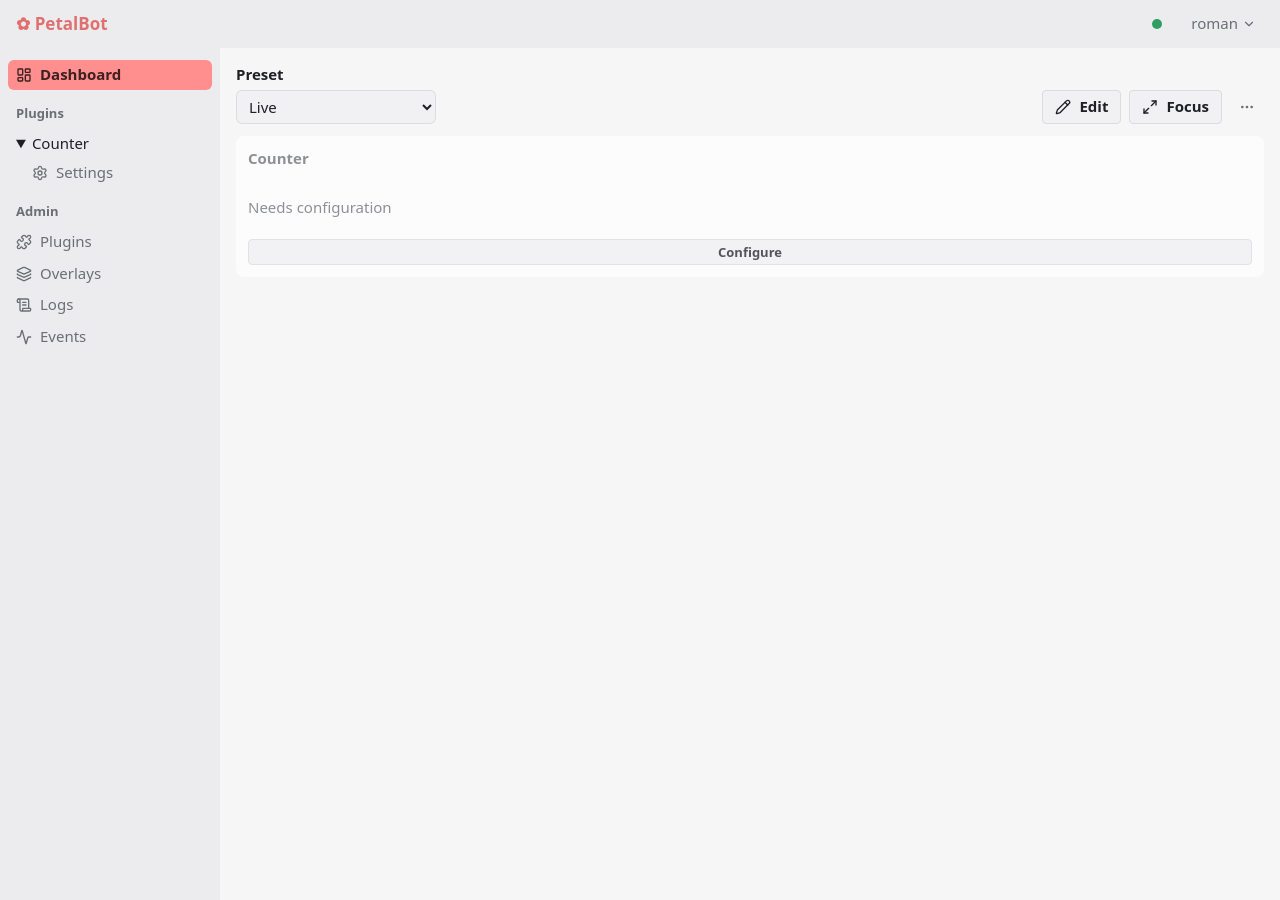
Scenario: widget instances › shows Needs configuration for a stored config that no longer parses, and fixes it
Expected: the text "Needs configuration" is shown, [248, 196, 392, 216]
Expected: the text "value of" is not shown
Click the button "Configure" at coordinates (750, 252), box [248, 239, 1252, 265]
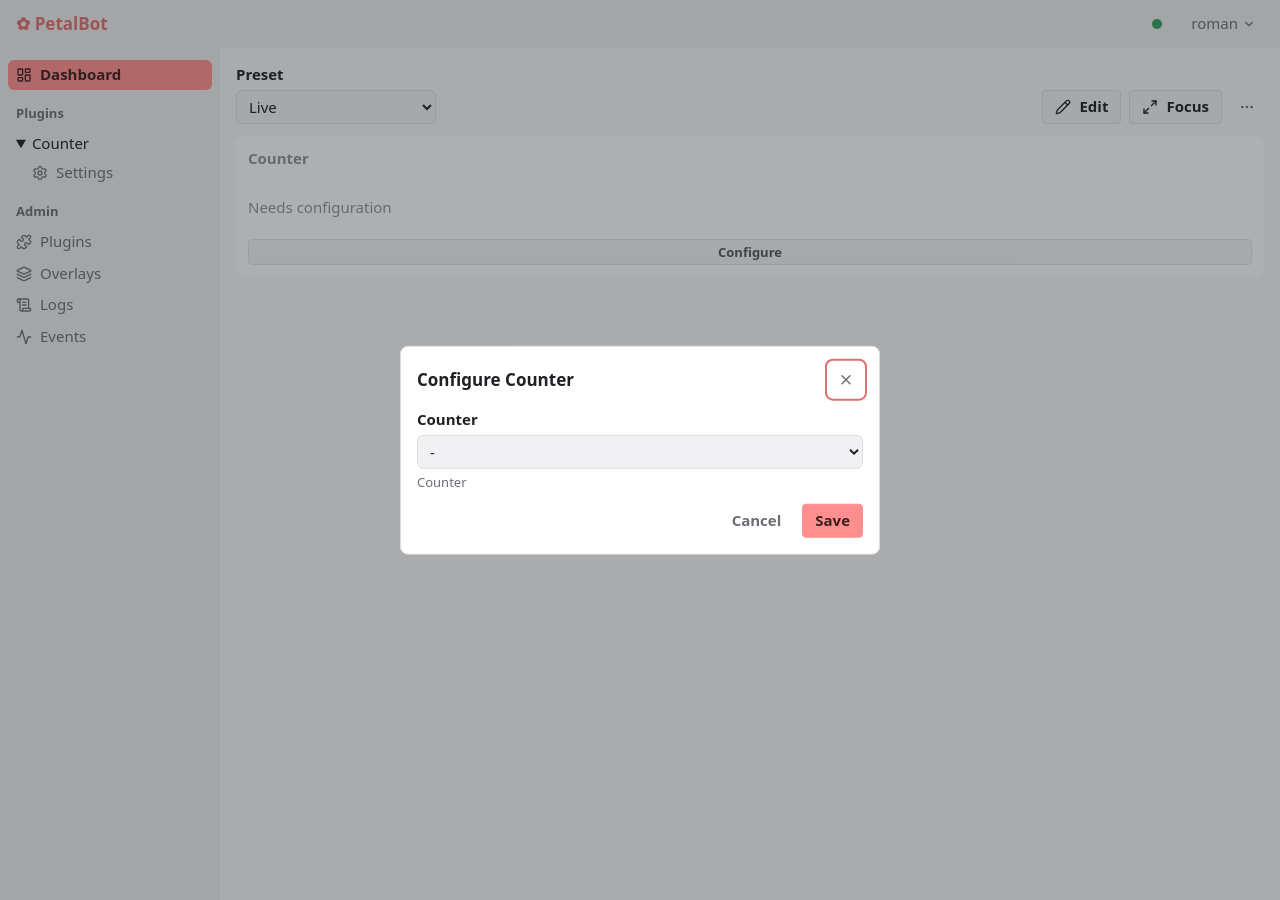
Now the dropdown labelled "Counter" is enabled
Select "Deaths" in the dropdown labelled "Counter" at coordinates (640, 452), box [417, 434, 863, 468]
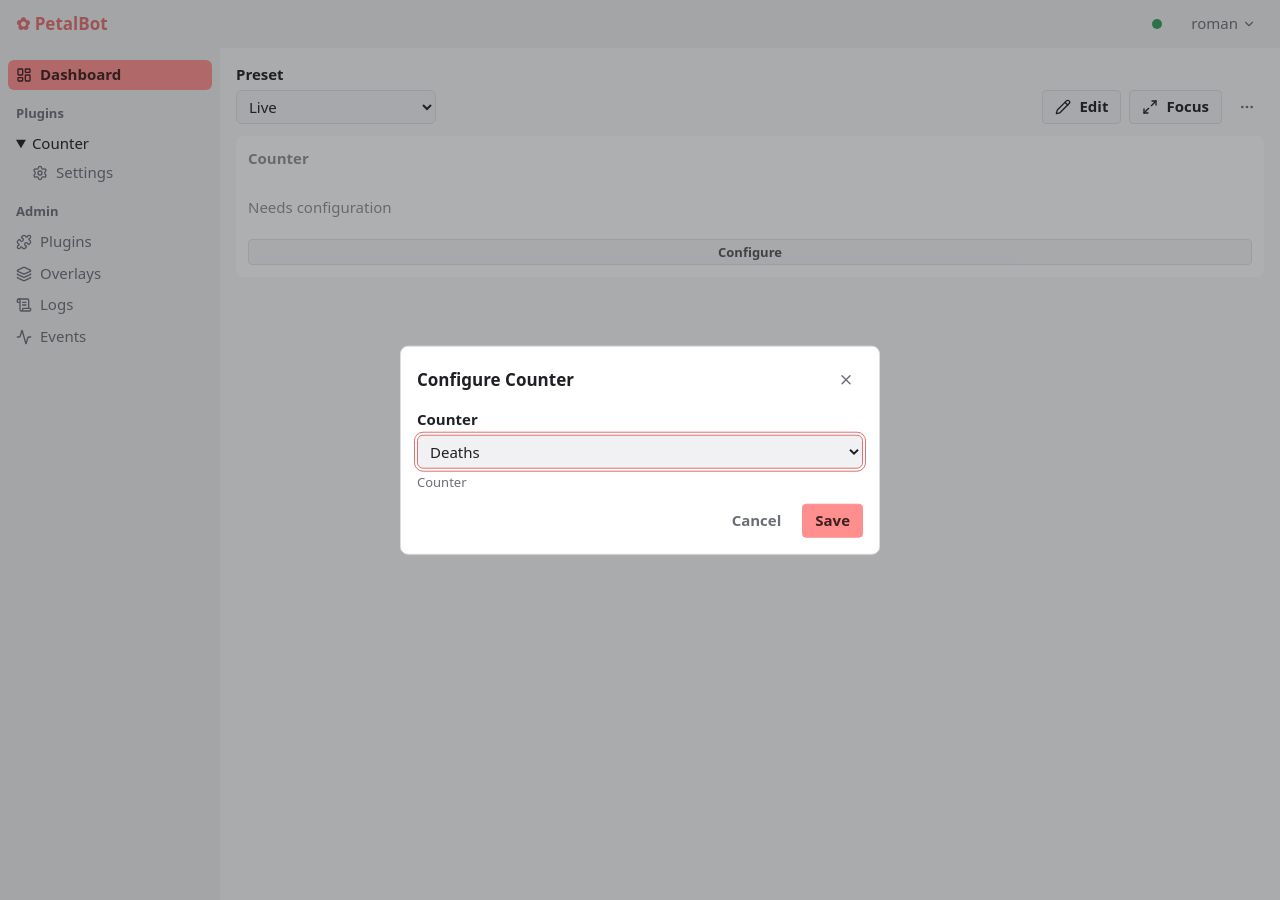
Click the button "Save" at coordinates (833, 520), box [802, 503, 863, 537]
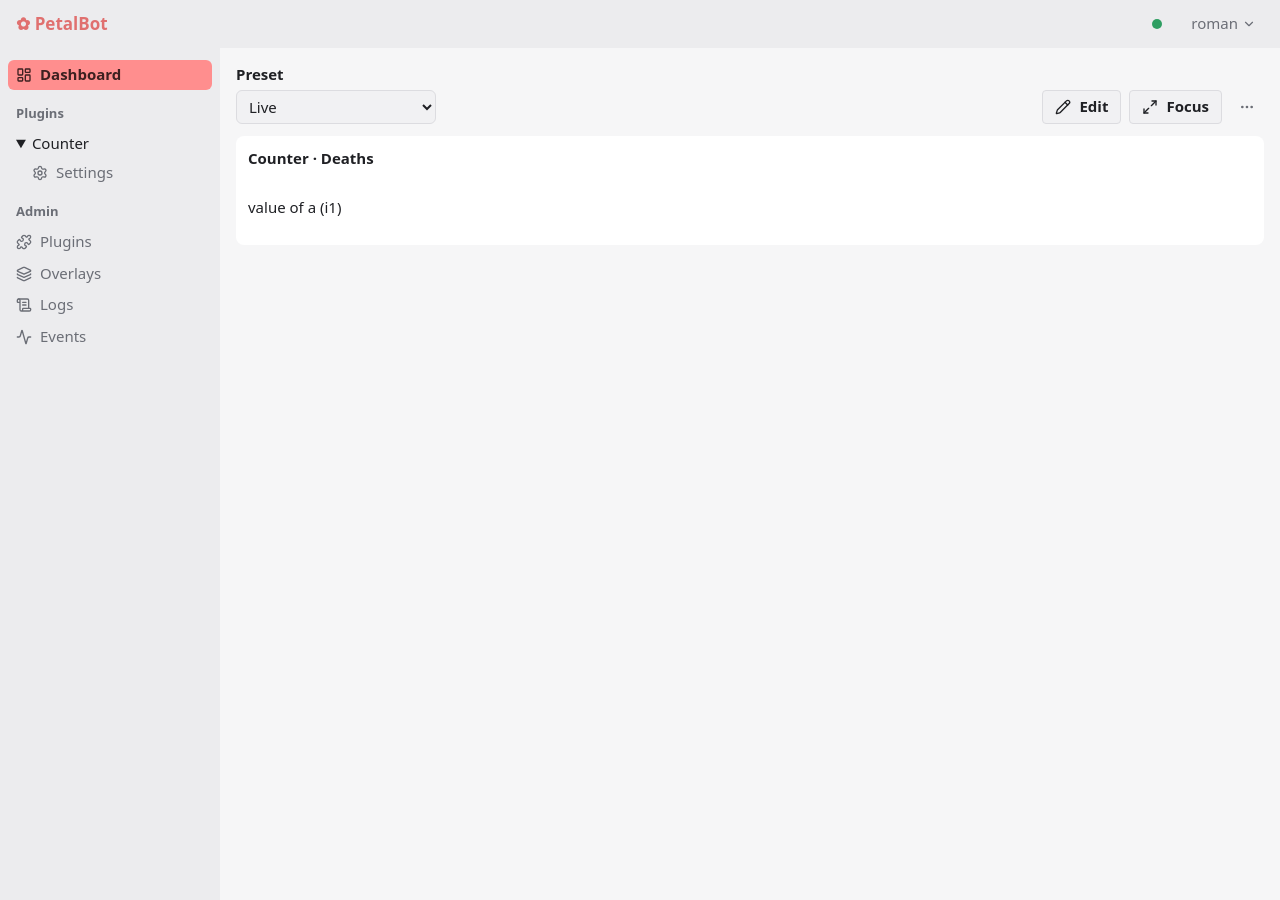
Now the text "value of a (i1)" is shown, box [248, 196, 342, 216]
